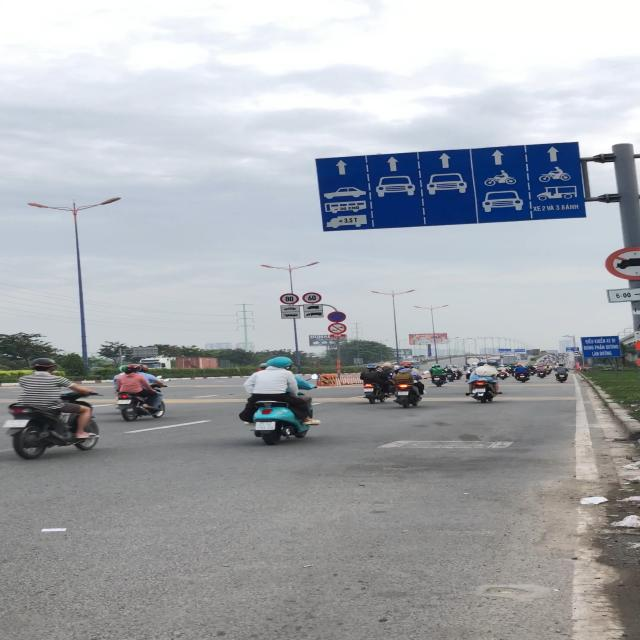Bien bao cam dung xe va do xe: (327, 311, 346, 323)
Bien bao toc do toi da cho phep: (301, 292, 323, 304), (279, 293, 299, 305)
